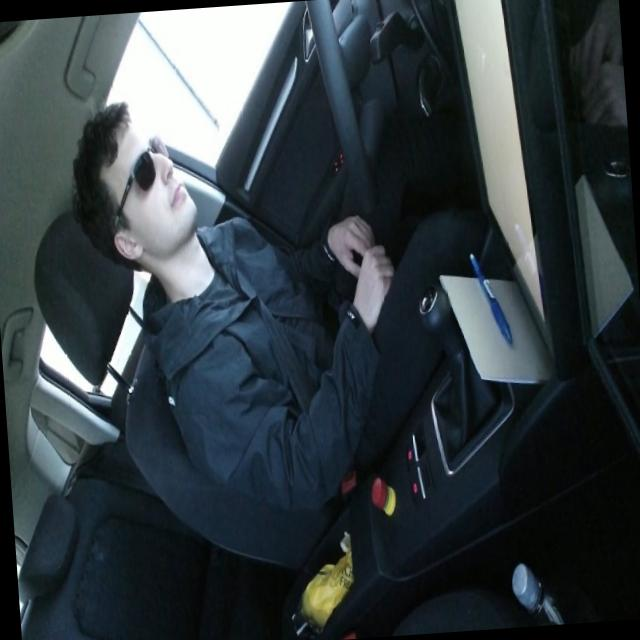pen: (468, 247, 513, 347)
